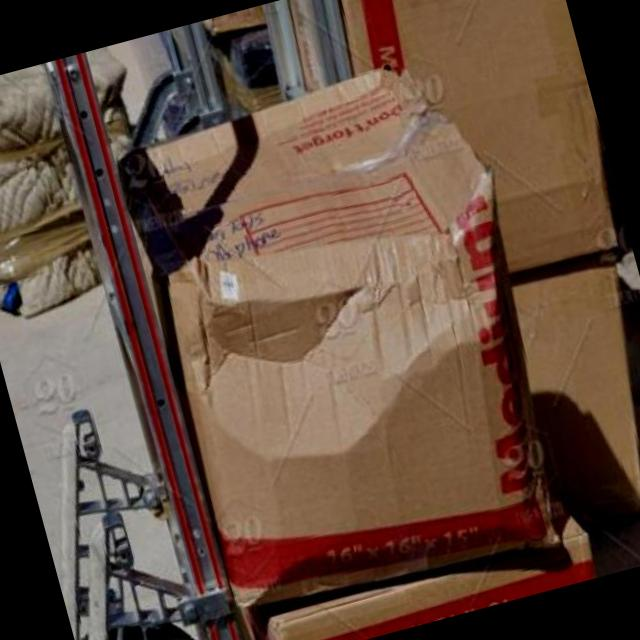box: (113, 68, 567, 605)
crushed: (205, 265, 397, 462), (398, 191, 503, 352), (299, 116, 445, 193)
